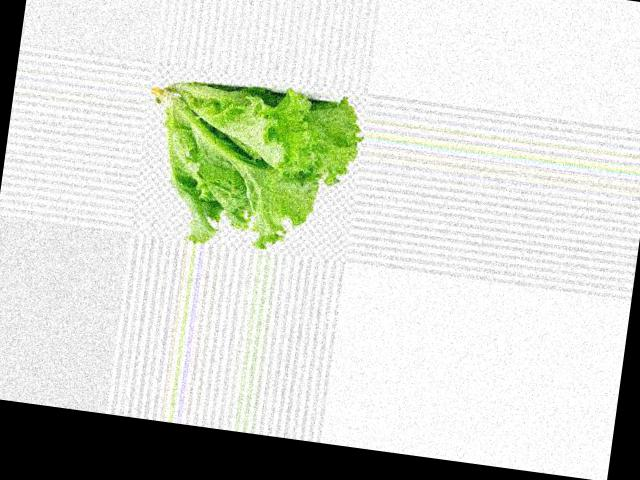lettuce: (185, 61, 343, 242)
